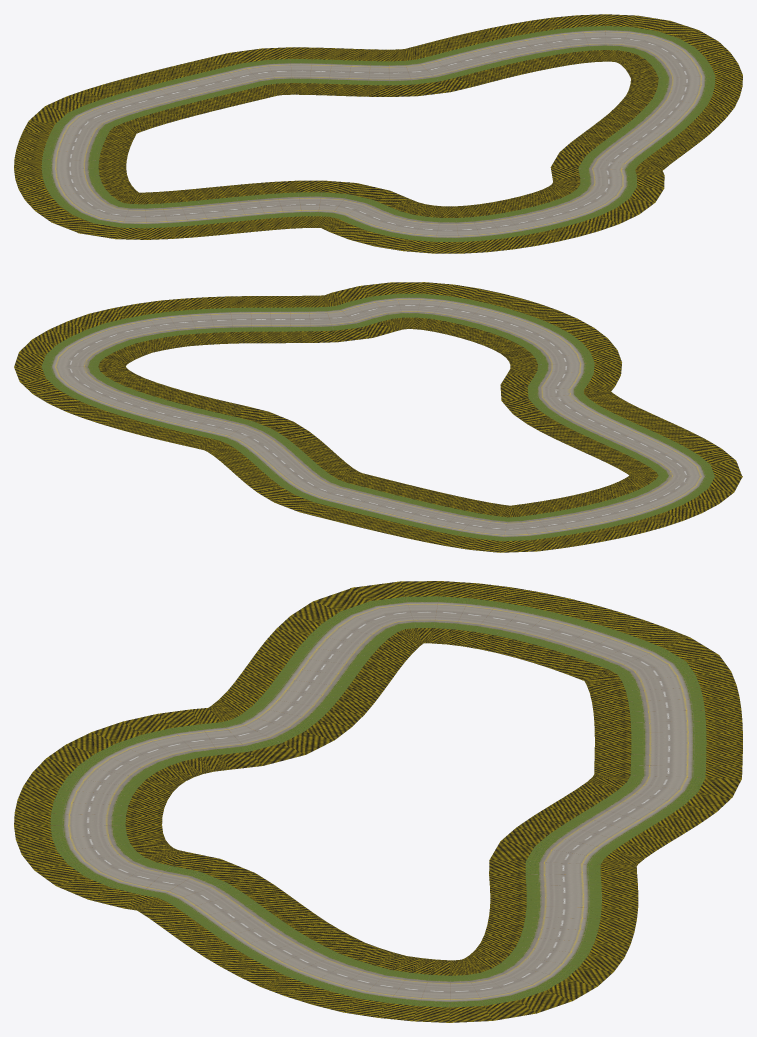
File: flat.fbx
3 views of the same model, one above another, from view 1: azimuth 30°, elevation 25°; view 2: azimuth 150°, elevation 25°; view 3: azimuth 270°, elevation 25° (orthographic). The views are drawn at different scales.
Visible parts, largest first — view 1: road, barrierWhite, barrierYellow, gravel; view 2: road, barrierWhite, barrierYellow, gravel; view 3: road, barrierWhite, barrierYellow, gravel.
Boxes of the visible parts, <box> form: road: <box>51,30,705,237</box>; barrierWhite: <box>14,14,742,253</box>; barrierYellow: <box>98,50,658,217</box>; gravel: <box>41,26,715,241</box>; road: <box>51,298,705,536</box>; barrierWhite: <box>14,282,742,552</box>; barrierYellow: <box>98,317,658,517</box>; gravel: <box>41,293,714,541</box>; road: <box>63,602,693,1001</box>; barrierWhite: <box>14,581,742,1022</box>; barrierYellow: <box>125,628,631,975</box>; gravel: <box>50,596,706,1007</box>.
Size of the model in its own units: 8076 by 0.000378 by 5630.
Materials: 1 (1 with a texture image).
